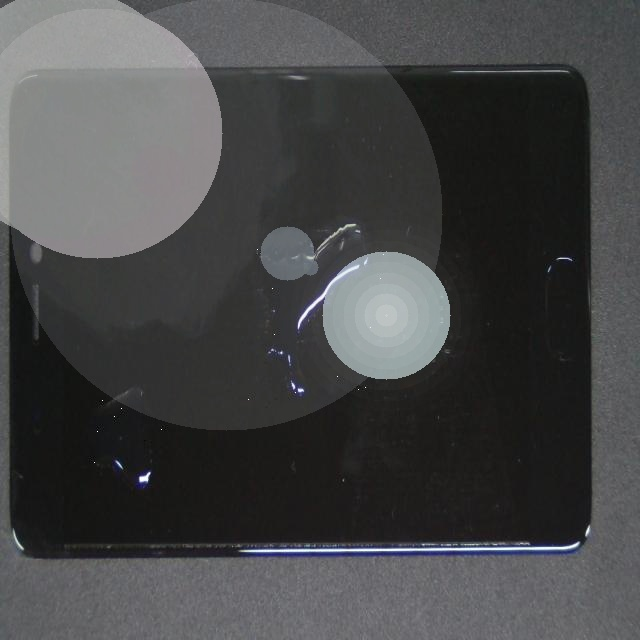oil: (178, 111, 426, 356), (37, 155, 126, 640)
